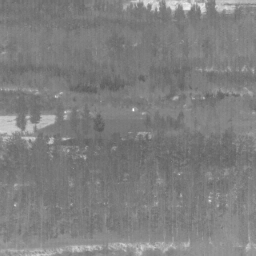aircraft: (100, 100, 102, 102)
